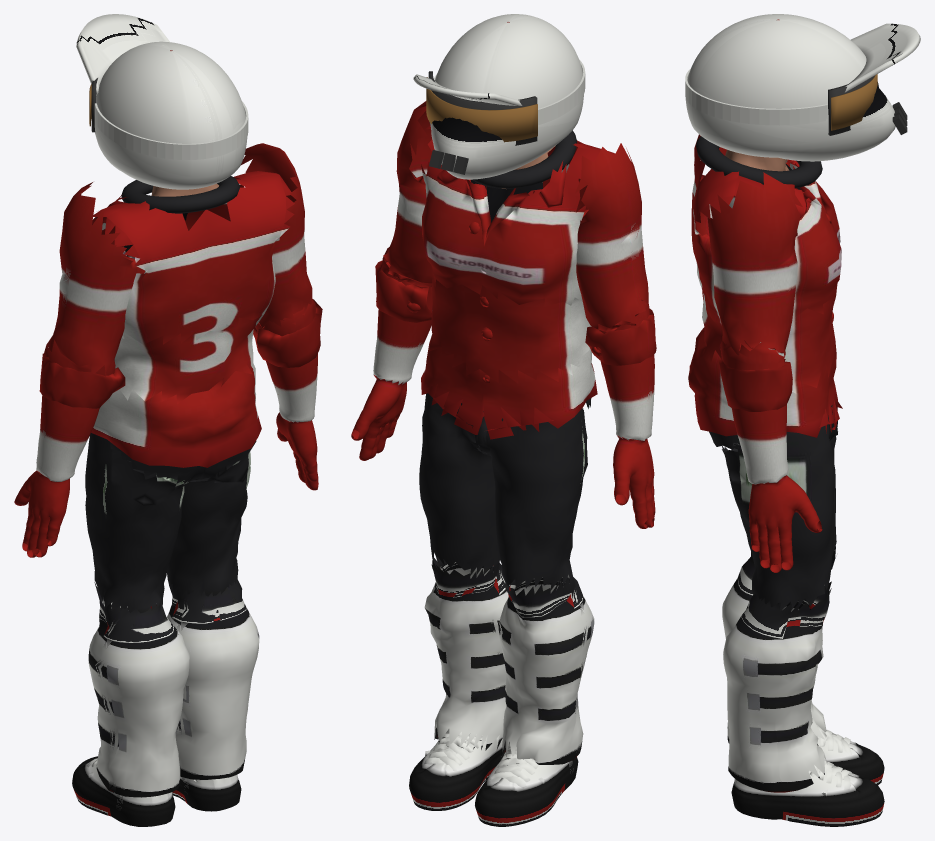
The model's file is fp_rider.glb.
3 views of the same model, side by side, from view 1: azimuth 30°, elevation 25°; view 2: azimuth 150°, elevation 25°; view 3: azimuth 270°, elevation 25° (orthographic). The views are drawn at different scales.
Visible parts, largest first — view 1: UprTorso, Head, LwrLegL, LwrLegR, Pelvis, UprLegL, UprArmL, UprLegR, LwrTorso, LwrArmL, LwrArmR, UprArmR (+4 smaller); view 2: Head, UprTorso, LwrLegL, UprLegL, LwrLegR, LwrTorso, UprArmL, UprLegR, Pelvis, LwrArmL, LwrArmR, FootL (+4 smaller); view 3: Head, LwrLegR, UprArmR, UprTorso, UprLegR, LwrArmR, FootR, Pelvis, HandR, LwrTorso, FootL, LwrLegL.
Part boxes in pixels (x1=…): UprTorso: x1=92, y1=171, x2=294, y2=344; Head: x1=76, y1=14, x2=248, y2=196; LwrLegL: x1=88, y1=582, x2=189, y2=797; LwrLegR: x1=167, y1=578, x2=259, y2=779; Pelvis: x1=91, y1=363, x2=261, y2=483; UprLegL: x1=85, y1=433, x2=188, y2=613; UprArmL: x1=45, y1=182, x2=137, y2=376; UprLegR: x1=155, y1=451, x2=250, y2=596; LwrTorso: x1=112, y1=272, x2=263, y2=404; LwrArmL: x1=36, y1=340, x2=125, y2=481; LwrArmR: x1=253, y1=299, x2=322, y2=422; UprArmR: x1=240, y1=143, x2=312, y2=330; Head: x1=413, y1=14, x2=585, y2=179; UprTorso: x1=421, y1=125, x2=615, y2=306; LwrLegL: x1=498, y1=572, x2=594, y2=764; UprLegL: x1=470, y1=407, x2=587, y2=590; LwrLegR: x1=424, y1=556, x2=508, y2=750; LwrTorso: x1=429, y1=271, x2=591, y2=383; UprArmL: x1=575, y1=143, x2=648, y2=329; UprLegR: x1=419, y1=384, x2=499, y2=575; Pelvis: x1=421, y1=335, x2=597, y2=455; LwrArmL: x1=585, y1=300, x2=656, y2=440; LwrArmR: x1=373, y1=246, x2=432, y2=384; FootL: x1=475, y1=743, x2=578, y2=826; Head: x1=685, y1=14, x2=920, y2=171; LwrLegR: x1=723, y1=581, x2=831, y2=792; UprArmR: x1=707, y1=172, x2=802, y2=357; UprTorso: x1=691, y1=134, x2=841, y2=319; UprLegR: x1=722, y1=399, x2=839, y2=611; LwrArmR: x1=718, y1=340, x2=792, y2=484; FootR: x1=731, y1=760, x2=884, y2=826; Pelvis: x1=688, y1=327, x2=837, y2=448; HandR: x1=748, y1=475, x2=822, y2=572; LwrTorso: x1=702, y1=283, x2=837, y2=393; FootL: x1=816, y1=724, x2=884, y2=784; LwrLegL: x1=722, y1=546, x2=835, y2=745.
Bounding box in the file's own units: 2.36 × 5.96 × 1.63.
Materials: 3 (1 with a texture image).
